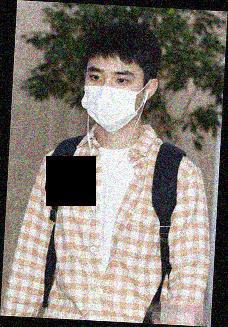with_mask: (84, 65, 145, 134)
